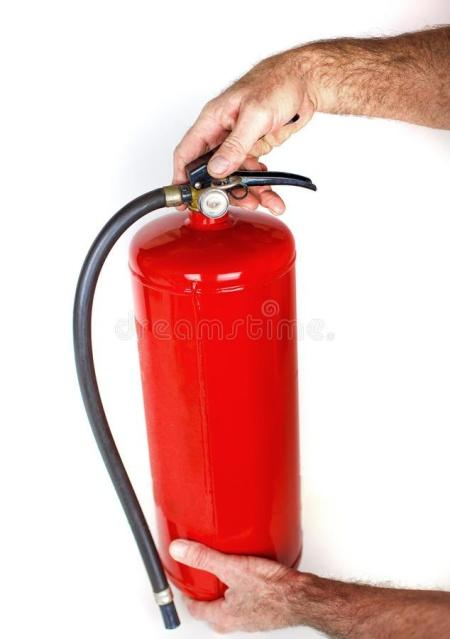APAR: (130, 149, 304, 598)
